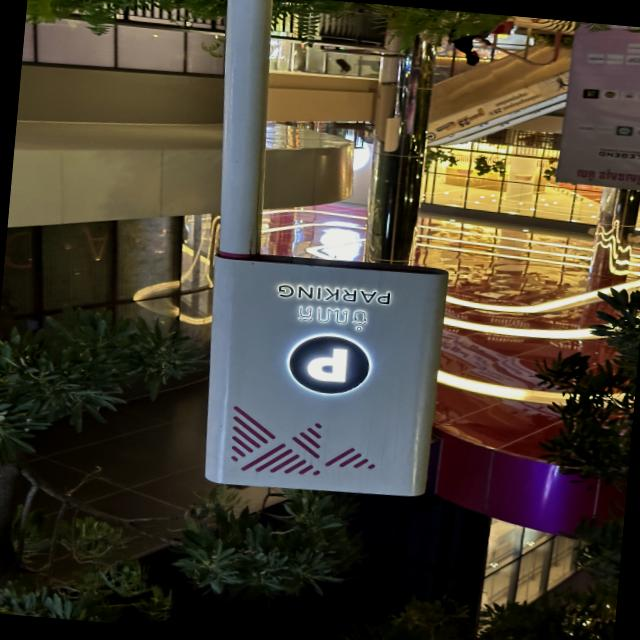Yolov11kh: (291, 300, 377, 335)
